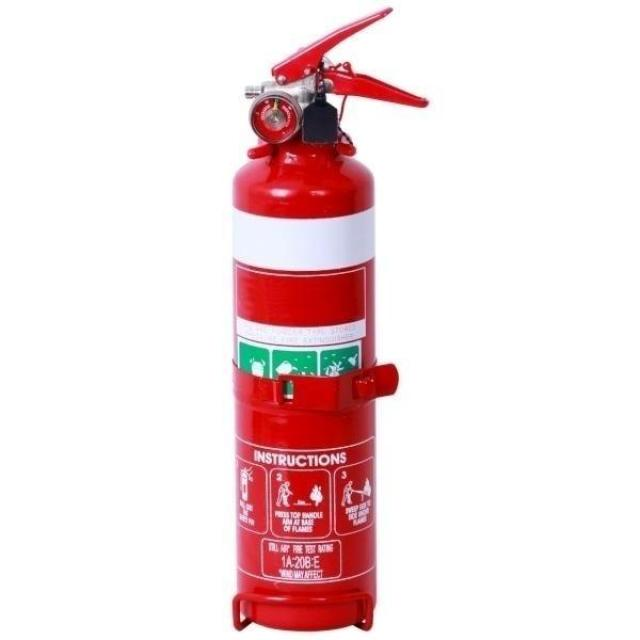fire_extinguisher: (212, 4, 437, 639)
